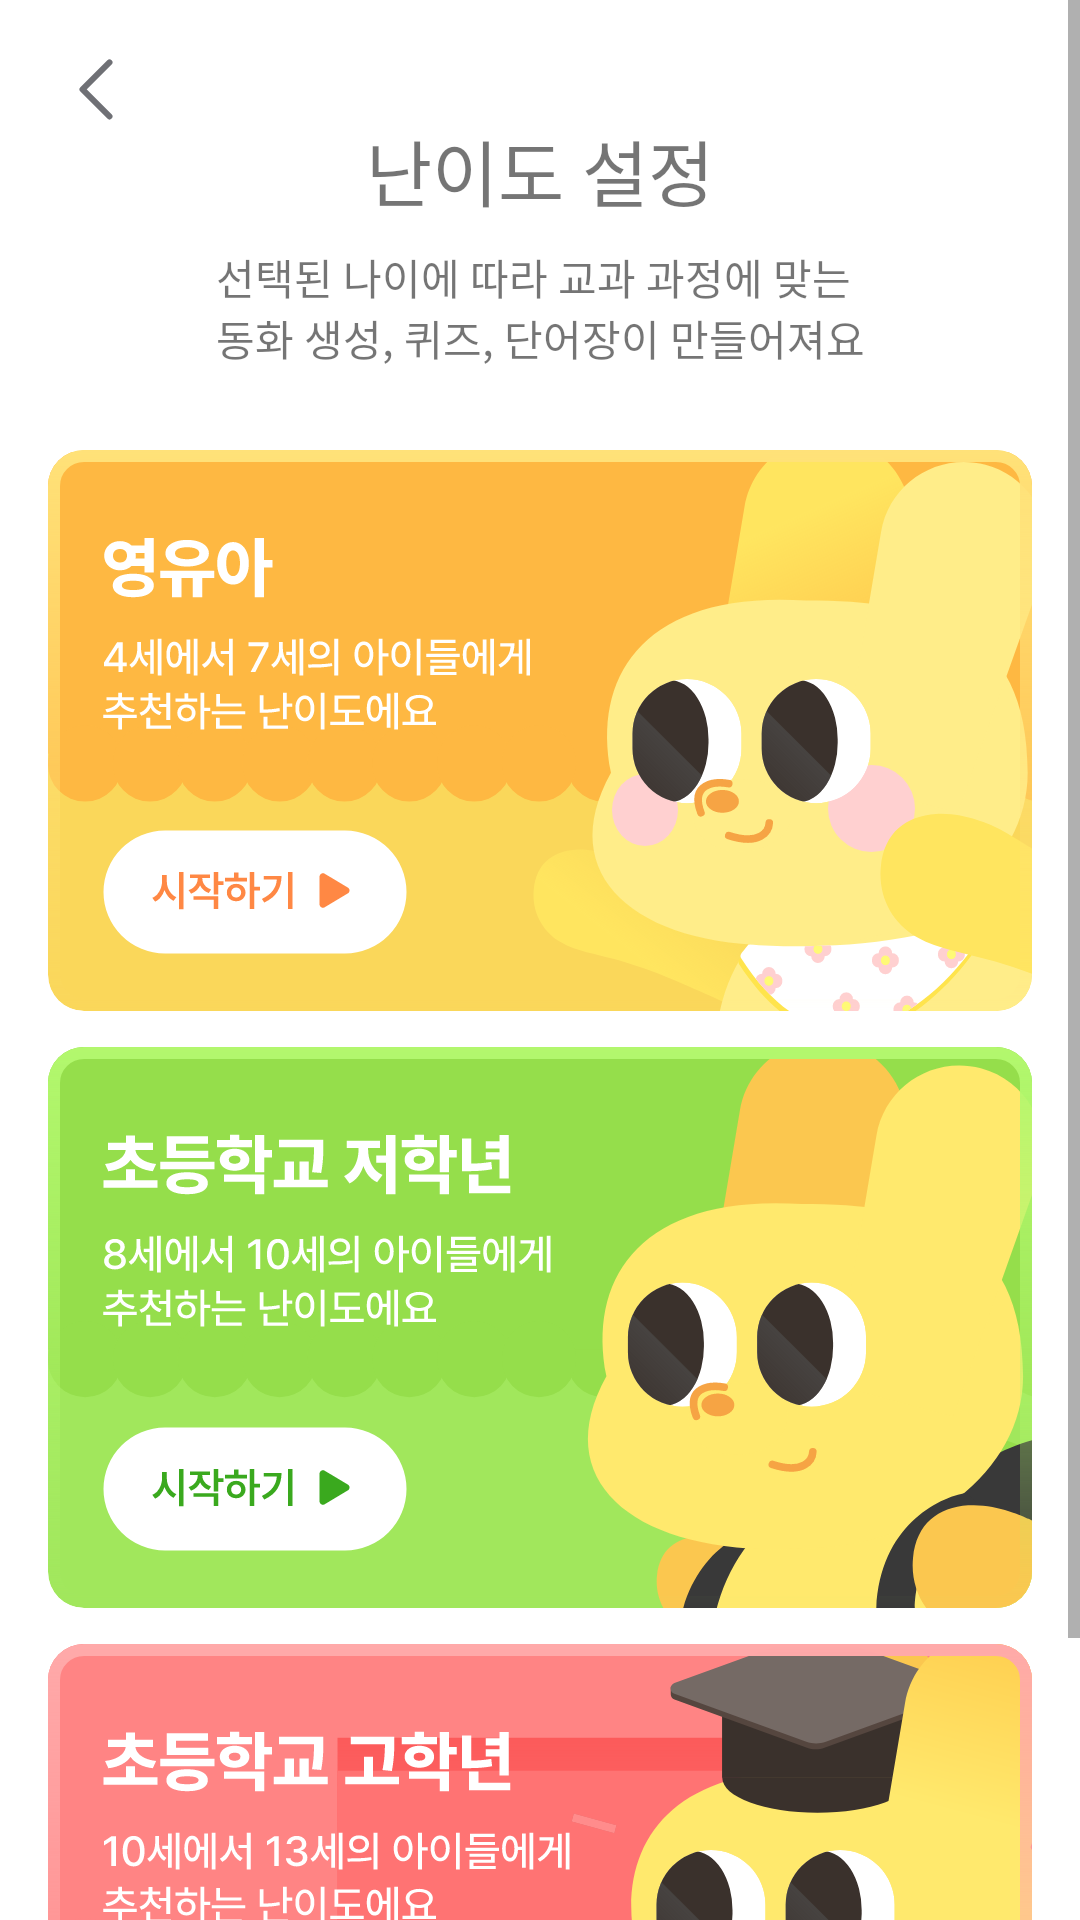

Named icons in this screenshot (1080×1920) and their bounding boxes, bbox=[x1, y1, x2, y2]:
chevron back: bbox=[79, 59, 113, 120]
